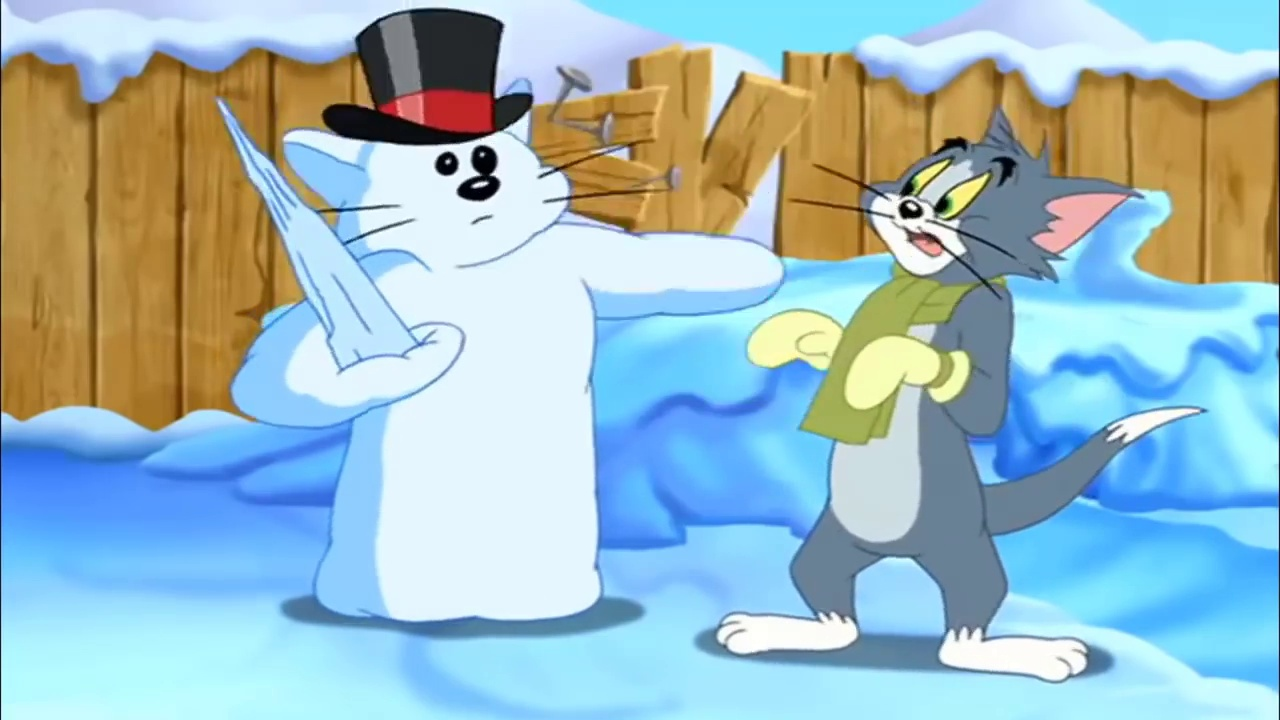face: (877, 137, 1021, 277)
